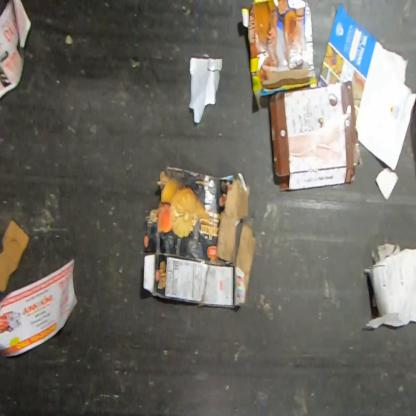cardboard: (142, 164, 258, 310), (268, 80, 362, 192), (240, 0, 319, 111), (0, 219, 31, 294)
